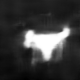plane: (22, 24, 75, 65)
